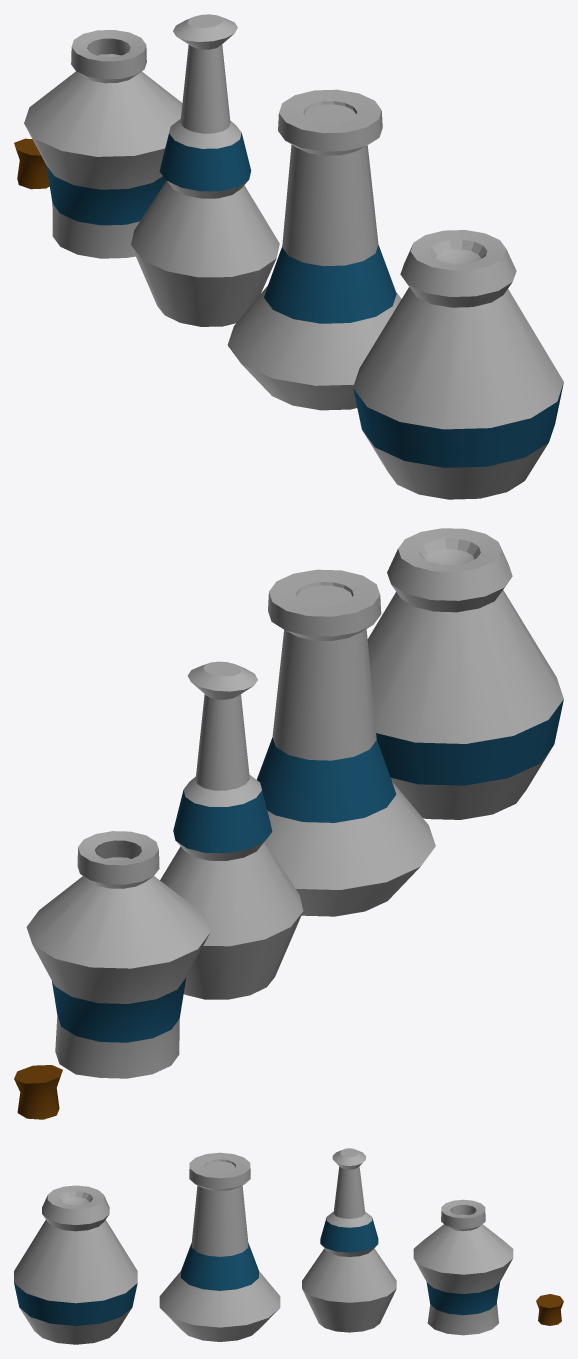
The model's file is Bottles.fbx.
3 renders of one model, top to bottom at view 1: azimuth 30°, elevation 25°; view 2: azimuth 150°, elevation 25°; view 3: azimuth 270°, elevation 25°, orthographic. The views are drawn at different scales.
Visible parts, largest first — view 1: Bottle01, Bottle02, Bottle03, Bottle04, Cork1; view 2: Bottle01, Bottle02, Bottle04, Bottle03, Cork1; view 3: Bottle01, Bottle02, Bottle03, Bottle04, Cork1.
Part boxes in pixels (x1=…): Bottle01: x1=353, y1=230, x2=563, y2=499; Bottle02: x1=227, y1=89, x2=401, y2=410; Bottle03: x1=131, y1=14, x2=279, y2=326; Bottle04: x1=24, y1=30, x2=182, y2=258; Cork1: x1=14, y1=138, x2=49, y2=189; Bottle01: x1=367, y1=528, x2=563, y2=819; Bottle02: x1=257, y1=569, x2=435, y2=916; Bottle04: x1=26, y1=831, x2=210, y2=1078; Bottle03: x1=160, y1=661, x2=303, y2=999; Cork1: x1=14, y1=1065, x2=62, y2=1119; Bottle01: x1=14, y1=1185, x2=137, y2=1344; Bottle02: x1=159, y1=1152, x2=280, y2=1341; Bottle03: x1=302, y1=1148, x2=396, y2=1332; Bottle04: x1=413, y1=1199, x2=513, y2=1335; Cork1: x1=536, y1=1294, x2=563, y2=1325.
Bounding box in the file's own units: 31.22 × 45.51 × 135.
